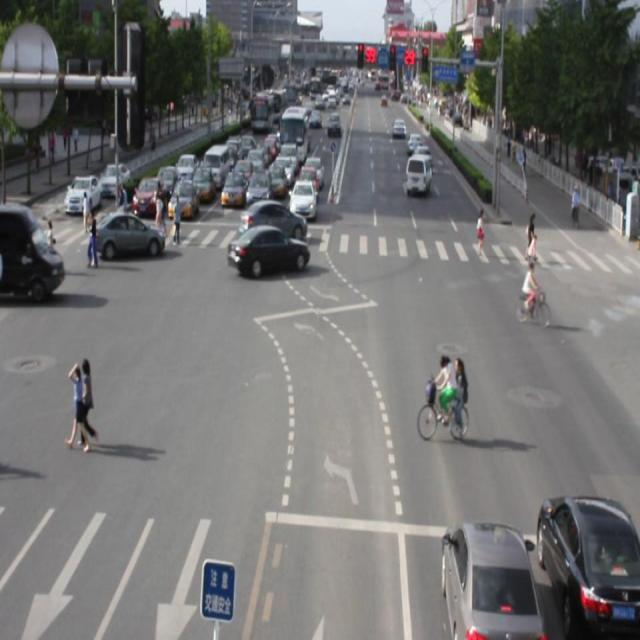car: (535, 493, 640, 640), (442, 516, 541, 640), (227, 223, 309, 277), (91, 209, 166, 258), (239, 198, 306, 242)
